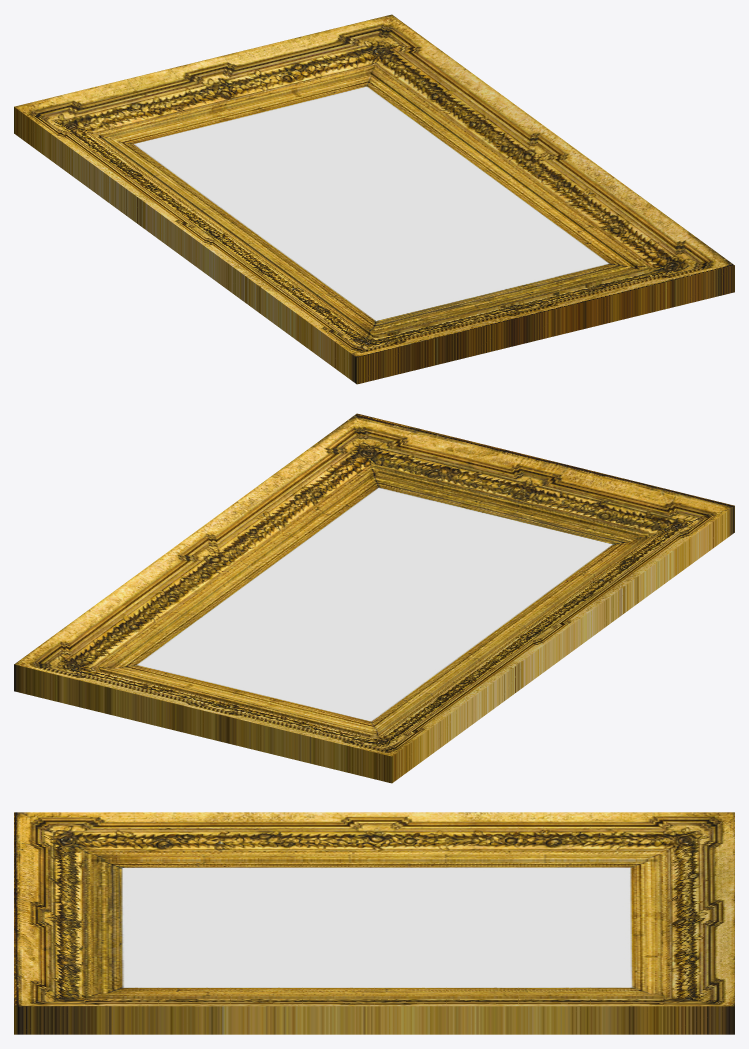
File: frame.FBX
3 renders of one model, top to bottom at view 1: azimuth 30°, elevation 25°; view 2: azimuth 150°, elevation 25°; view 3: azimuth 270°, elevation 25°, orthographic. The views are drawn at different scales.
Visible parts, largest first — view 1: Box001; view 2: Box001; view 3: Box001.
Boxes of the visible parts, x1=… form: Box001: x1=14, y1=14, x2=734, y2=384; Box001: x1=14, y1=413, x2=734, y2=783; Box001: x1=14, y1=812, x2=734, y2=1034.
Bounding box in the file's own units: 70 × 4.74 × 110.
1 material, 1 textured.
